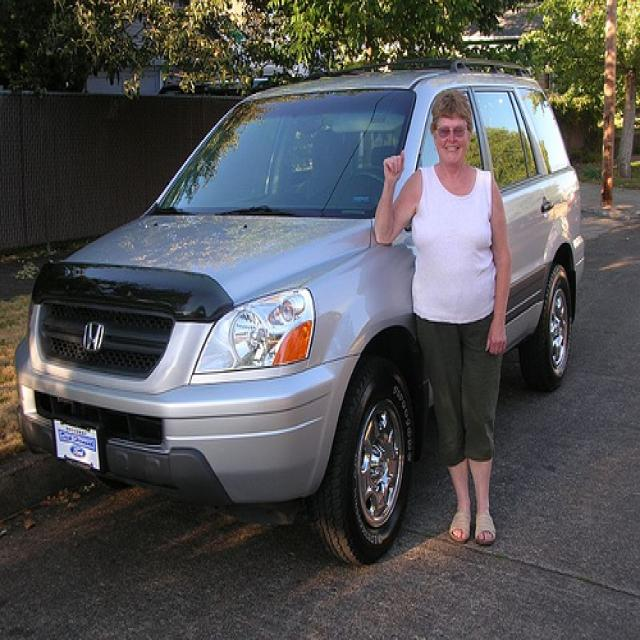light_vehicle: (11, 57, 585, 568)
